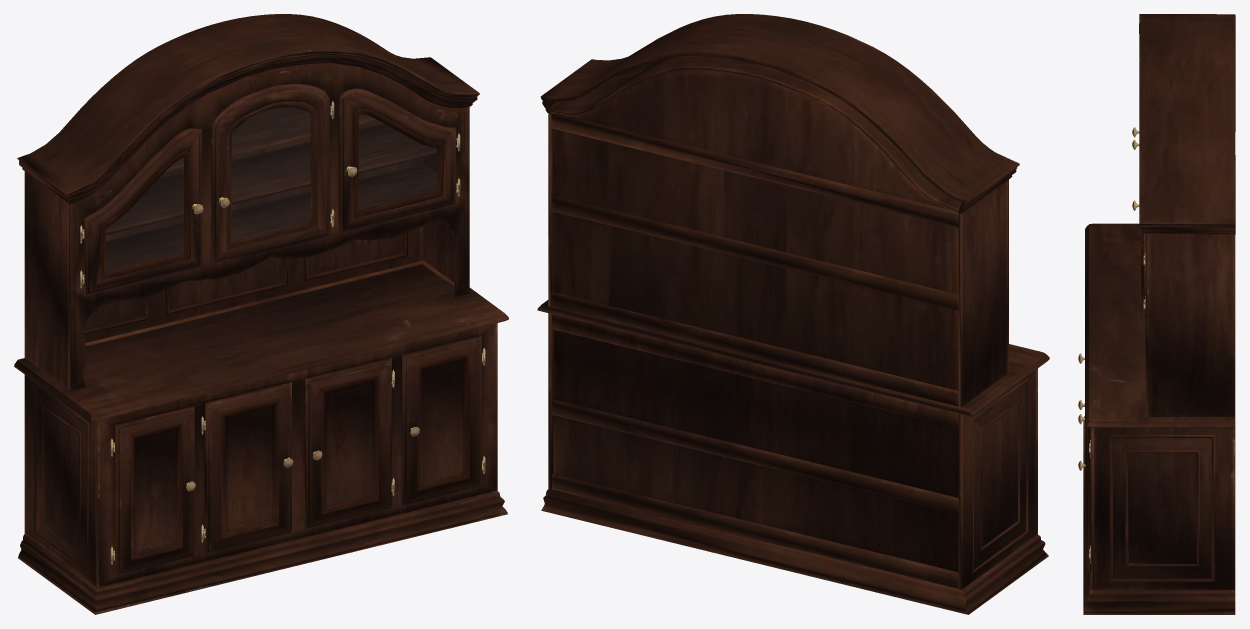
File: vintage_cabinet_01.glb
3 views of the same model, side by side, from view 1: azimuth 30°, elevation 25°; view 2: azimuth 150°, elevation 25°; view 3: azimuth 270°, elevation 25° (orthographic). The views are drawn at different scales.
Parts seen in each view (by area): view 1: vintage_cabinet_01_body, vintage_cabinet_01_door_01; view 2: vintage_cabinet_01_body; view 3: vintage_cabinet_01_body.
Boxes of the visible parts, x1,y1,x2,y2 form: vintage_cabinet_01_body: (14, 14, 508, 614); vintage_cabinet_01_door_01: (106, 107, 436, 271); vintage_cabinet_01_body: (537, 14, 1049, 614); vintage_cabinet_01_body: (1078, 14, 1235, 614).
Size of the model in its own units: 2.02 by 2.23 by 0.6697.
3 materials, 2 textured.
